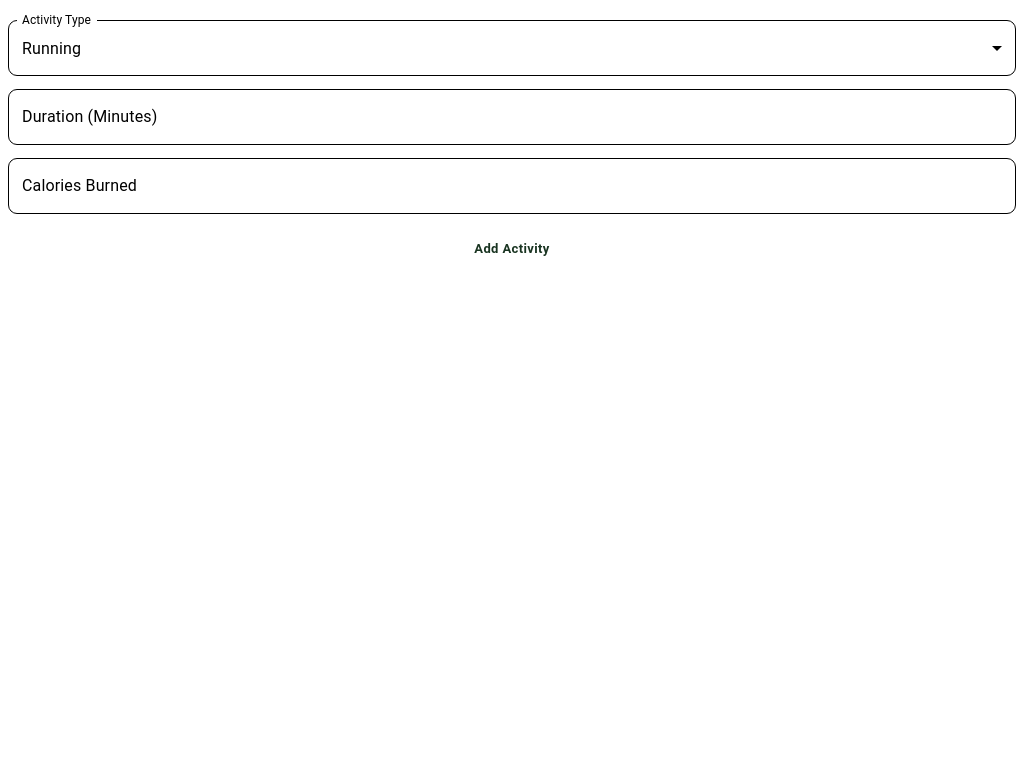
Test: activity entry and history refresh › requires exercise details before saving weight training
Press the mouse on the dropdown: (52, 48) [22,38,81,58]
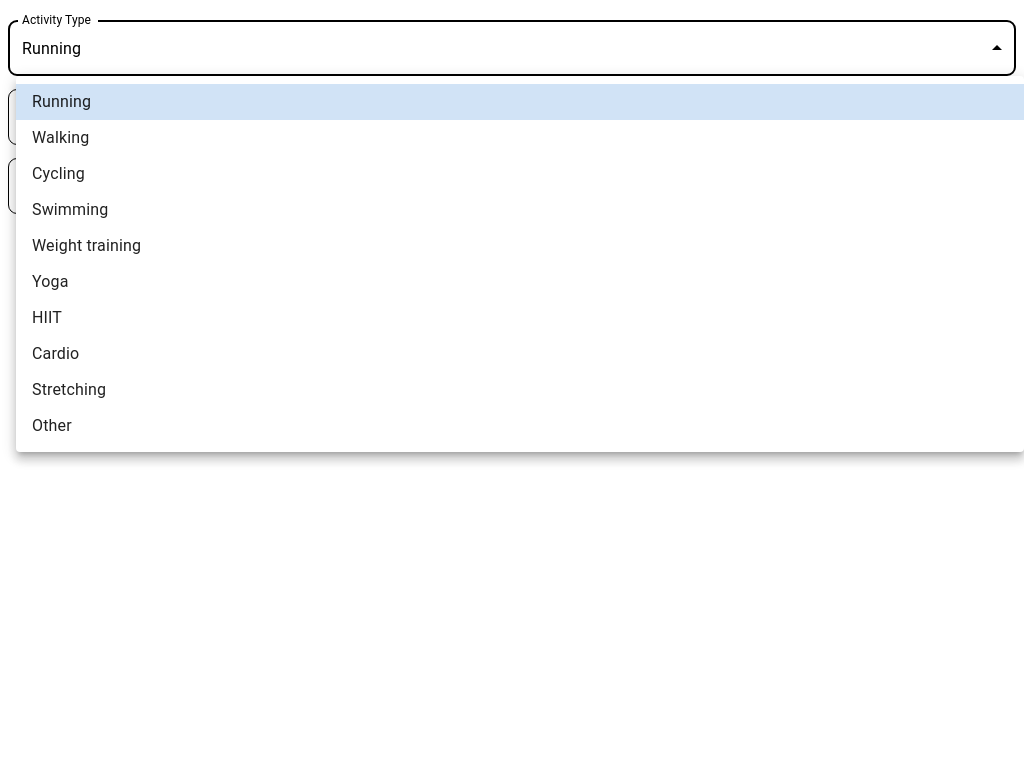
Click the option "Weight training": (87, 246) [32,236,141,255]
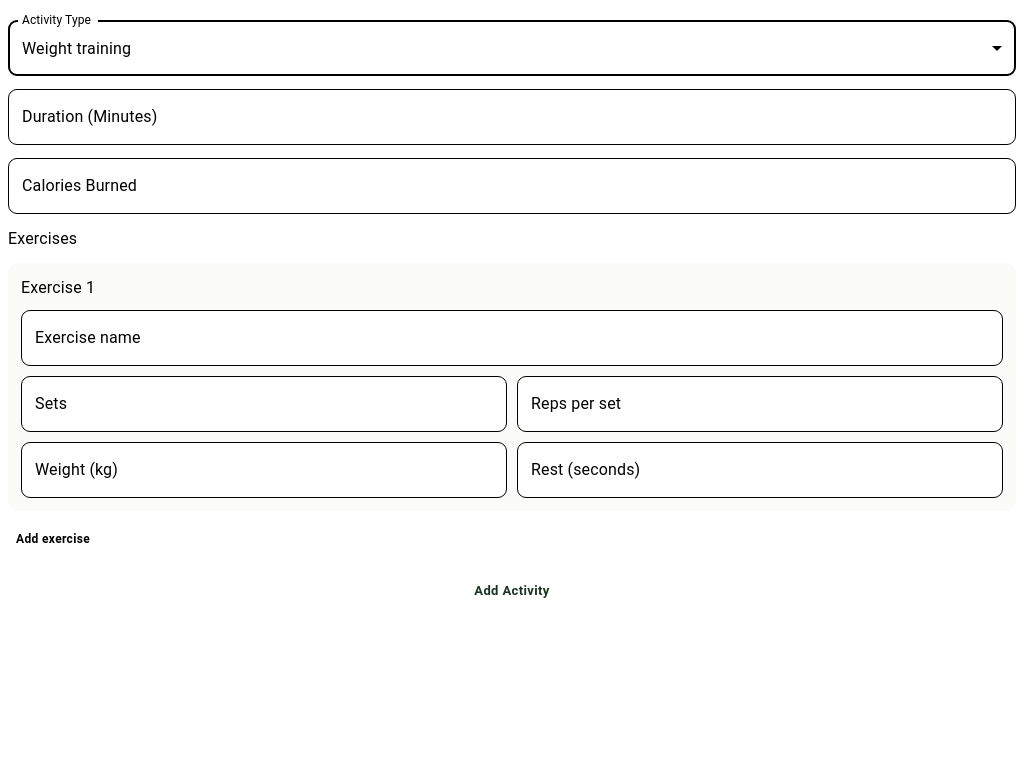
Submit the form named "Add Activity"
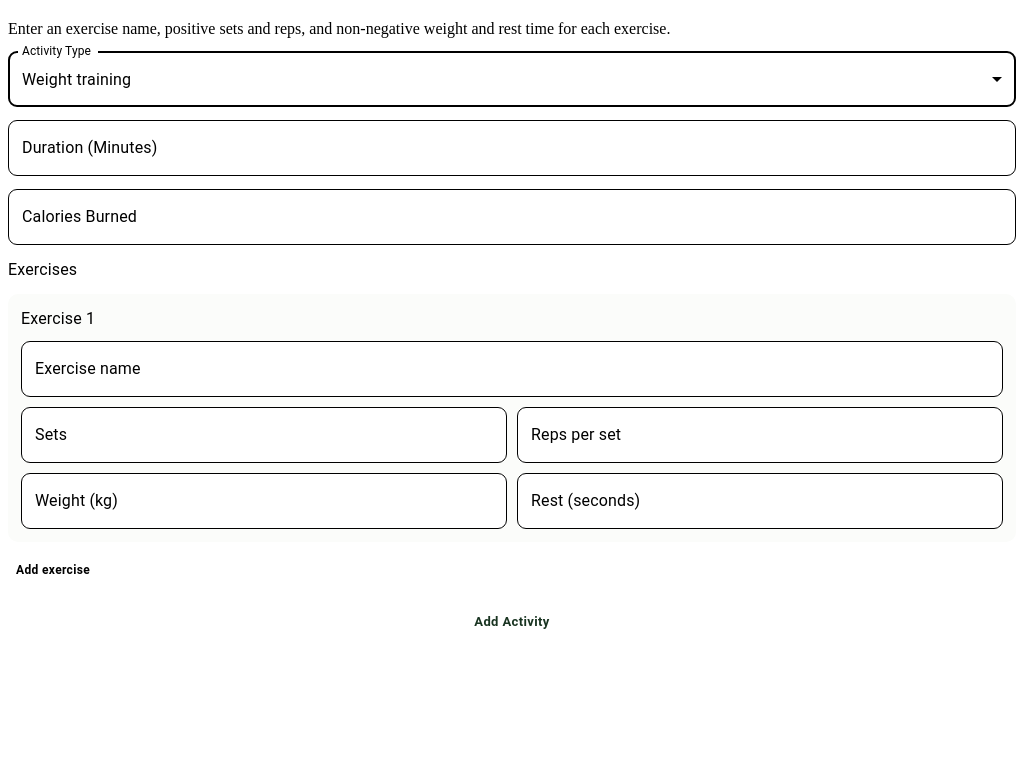
expect the message shows "Enter an exercise name, positive sets and reps": met, box [8,20,670,37]
